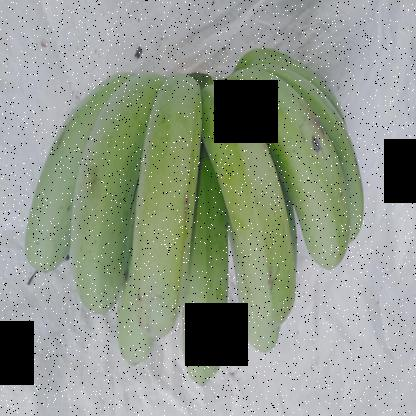unripe: (206, 52, 300, 332), (66, 59, 151, 332), (250, 63, 353, 280), (127, 67, 206, 349), (168, 173, 228, 404)
